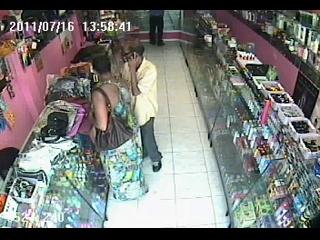Normal: (85, 56, 149, 202), (121, 44, 162, 174), (148, 10, 166, 46)
